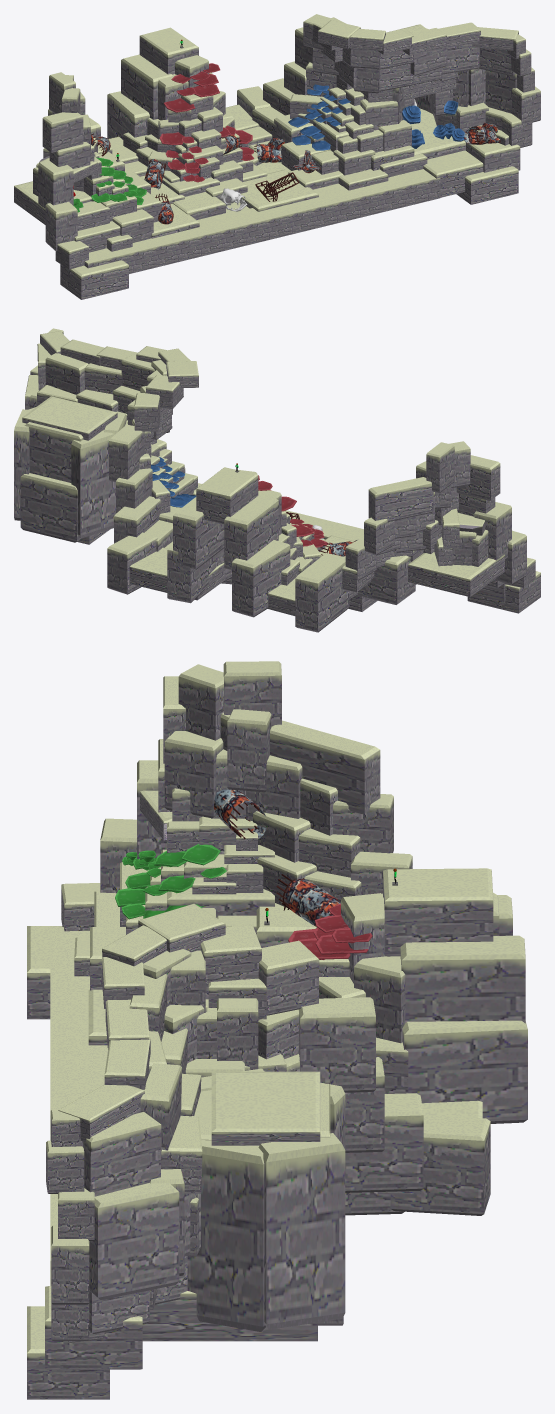
File: Game_Background.fbx
The picture shows the model from 3 angles, top to bottom: view 1: azimuth 30°, elevation 25°; view 2: azimuth 150°, elevation 25°; view 3: azimuth 270°, elevation 25°; orthographic projection. The views are drawn at different scales.
Visible parts, largest first — view 1: Terrain, Coral_Red, Coral_Blue, Submarine_Wireframe.003, Coral_Green, Wreckage_Boats, Skull; view 2: Terrain, Coral_Red, Coral_Blue; view 3: Terrain, Coral_Green, Submarine_Wireframe.003, Coral_Red.
Boxes of the visible parts, x1=… form: Terrain: x1=14, y1=14, x2=540, y2=299; Coral_Red: x1=159, y1=63, x2=254, y2=182; Coral_Blue: x1=288, y1=84, x2=464, y2=150; Submarine_Wireframe.003: x1=91, y1=122, x2=500, y2=224; Coral_Green: x1=73, y1=157, x2=146, y2=212; Wreckage_Boats: x1=255, y1=172, x2=299, y2=201; Skull: x1=218, y1=188, x2=247, y2=211; Terrain: x1=14, y1=328, x2=540, y2=632; Coral_Red: x1=258, y1=475, x2=328, y2=547; Coral_Blue: x1=151, y1=457, x2=196, y2=507; Terrain: x1=27, y1=661, x2=527, y2=1399; Coral_Green: x1=115, y1=843, x2=226, y2=919; Submarine_Wireframe.003: x1=214, y1=789, x2=340, y2=926; Coral_Red: x1=288, y1=903, x2=372, y2=959.
Bounding box in the file's own units: 15450 × 5381 × 7098.
13 materials, 5 textured.
